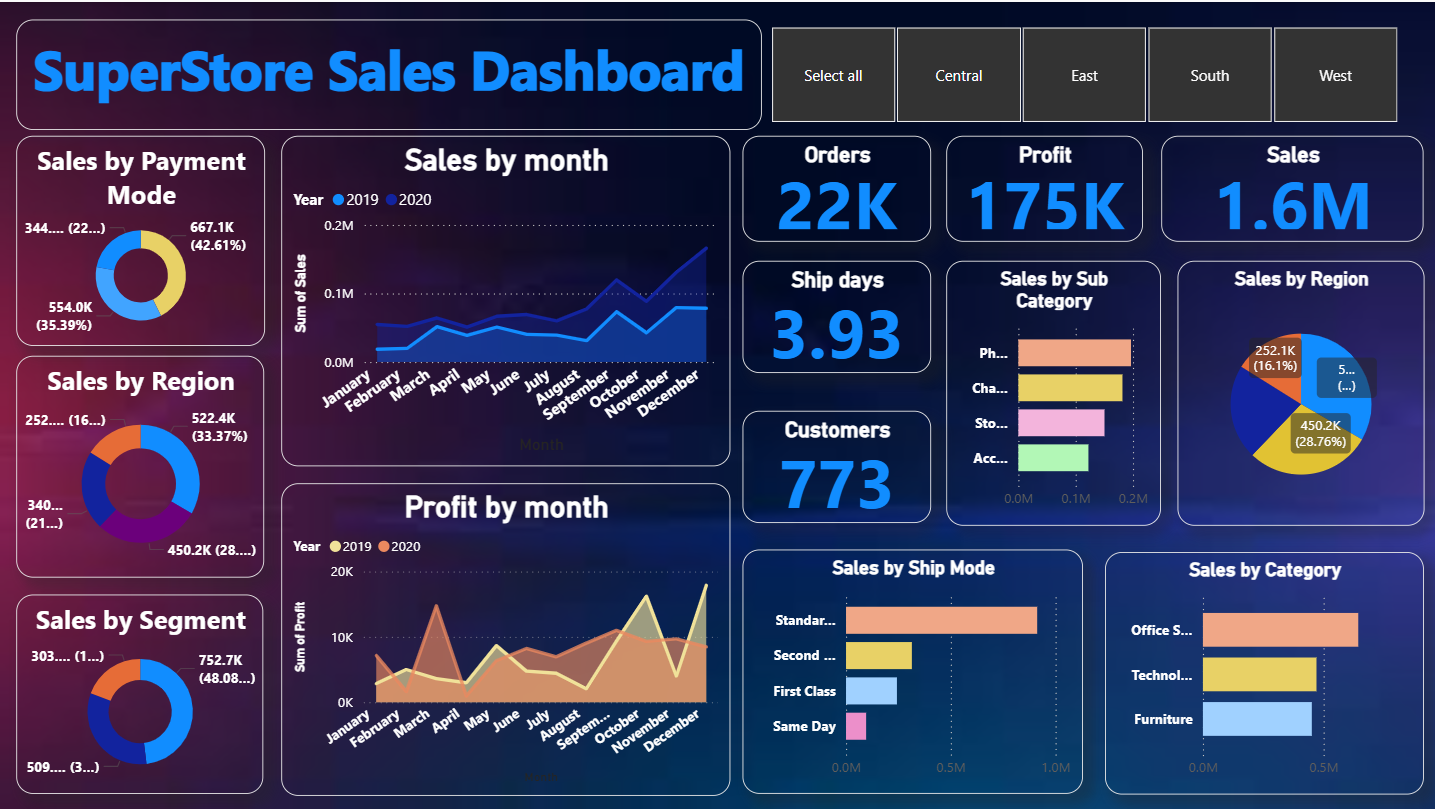

The dashboard page shown, as its layout file describes it:
{"tool":"powerbi","page":{"name":"Page 1","canvas":[1280,720],"ordinal":0},"visuals":[{"type":"textbox","box":[14.3,16.1,664.3,98.2],"z":0},{"type":"donutChart","title":"Sales by Payment Mode","fields":{"Y":["Sum(SuperStore_Sales_Dataset.Sales)"],"Category":["SuperStore_Sales_Dataset.Payment Mode"]},"box":[14.3,119.6,221.4,187.5],"z":1000},{"type":"donutChart","title":"Sales by Region","fields":{"Y":["Sum(SuperStore_Sales_Dataset.Sales)"],"Category":["SuperStore_Sales_Dataset.Region"]},"box":[14.3,314.9,221.1,197.2],"z":2000},{"type":"donutChart","title":"Sales by Segment","fields":{"Y":["Sum(SuperStore_Sales_Dataset.Sales)"],"Category":["SuperStore_Sales_Dataset.Segment"]},"box":[14.8,527.8,220.4,177.8],"z":3000},{"type":"lineChart","title":"Sales by month","fields":{"Y":["Sum(SuperStore_Sales_Dataset.Sales)"],"Category":["SuperStore_Sales_Dataset.Order Date.Variation.Date Hierarchy.Month","SuperStore_Sales_Dataset.Order Date.Variation.Date Hierarchy.Day"],"Series":["SuperStore_Sales_Dataset.Order Date.Variation.Date Hierarchy.Year"]},"box":[250,119.6,400,294.6],"z":4000},{"type":"lineChart","title":"Profit by month","fields":{"Category":["SuperStore_Sales_Dataset.Order Date.Variation.Date Hierarchy.Month","SuperStore_Sales_Dataset.Order Date.Variation.Date Hierarchy.Day"],"Series":["SuperStore_Sales_Dataset.Order Date.Variation.Date Hierarchy.Year"],"Y":["Sum(SuperStore_Sales_Dataset.Profit)"]},"box":[250,428.6,400,278.6],"z":5000},{"type":"card","title":"Orders","fields":{"Values":["Sum(SuperStore_Sales_Dataset.Quantity)"]},"box":[660.7,119.6,167.9,94.6],"z":6000},{"type":"card","title":"Ship days","fields":{"Values":["Avg(SuperStore_Sales_Dataset.Ship_Days)"]},"box":[660.7,230.4,167.9,100],"z":7000},{"type":"card","title":"Sales","fields":{"Values":["Sum(SuperStore_Sales_Dataset.Sales)"]},"box":[1033.9,119.6,233.9,94.6],"z":8000},{"type":"card","title":"Profit","fields":{"Values":["Sum(SuperStore_Sales_Dataset.Profit)"]},"box":[842.9,119.6,175,94.6],"z":9000},{"type":"clusteredBarChart","title":" Sales by Ship Mode","fields":{"Category":["SuperStore_Sales_Dataset.Ship Mode"],"Y":["Sum(SuperStore_Sales_Dataset.Sales)"]},"box":[660.7,487.5,303.6,217.9],"z":10000},{"type":"clusteredBarChart","title":" Sales by Category","fields":{"Category":["SuperStore_Sales_Dataset.Category"],"Y":["Sum(SuperStore_Sales_Dataset.Sales)"]},"box":[983.9,489.3,283.9,216.1],"z":11000},{"type":"clusteredBarChart","title":" Sales by Sub Category","fields":{"Category":["SuperStore_Sales_Dataset.Sub-Category"],"Y":["Sum(SuperStore_Sales_Dataset.Sales)"]},"box":[842.9,230.4,191.1,235.7],"z":12000},{"type":"slicer","fields":{"Values":["SuperStore_Sales_Dataset.Region"]},"box":[660.7,16.1,607.1,98.2],"z":13000},{"type":"pieChart","title":"Sales by Region","fields":{"Y":["Sum(SuperStore_Sales_Dataset.Sales)"],"Category":["SuperStore_Sales_Dataset.Region"]},"box":[1048.2,230.4,219.6,235.7],"z":14000},{"type":"card","title":"Customers","fields":{"Values":["Count(SuperStore_Sales_Dataset.Customer ID)"]},"box":[660.7,364.3,167.9,100],"z":15000}]}

Visuals, with their boxes in screenshot pixels (x1, y1, x2, y2), scaled from the page's 1280x720 canvas onto the 1435x809 screenshot:
textbox: [16, 18, 761, 128]
"Sales by Payment Mode" donutChart: [16, 134, 264, 345]
"Sales by Region" donutChart: [16, 354, 264, 575]
"Sales by Segment" donutChart: [17, 593, 264, 793]
"Sales by month" lineChart: [280, 134, 729, 465]
"Profit by month" lineChart: [280, 482, 729, 795]
"Orders" card: [741, 134, 929, 241]
"Ship days" card: [741, 259, 929, 371]
"Sales" card: [1159, 134, 1421, 241]
"Profit" card: [945, 134, 1141, 241]
" Sales by Ship Mode" clusteredBarChart: [741, 548, 1081, 793]
" Sales by Category" clusteredBarChart: [1103, 550, 1421, 793]
" Sales by Sub Category" clusteredBarChart: [945, 259, 1159, 524]
slicer - SuperStore_Sales_Dataset.Region: [741, 18, 1421, 128]
"Sales by Region" pieChart: [1175, 259, 1421, 524]
"Customers" card: [741, 409, 929, 522]
